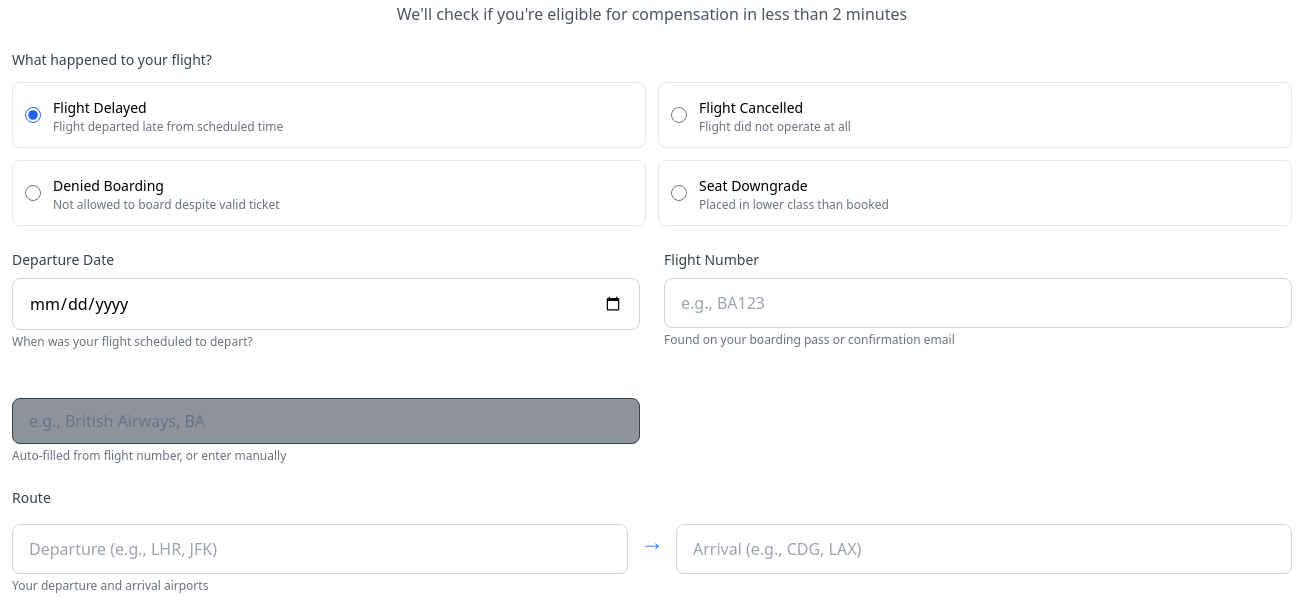
FlightLookupForm - Auto-Calculations › notice period auto-calculation › should auto-calculate notice period from dates
Click the radio button labelled "Flight Cancelled Flight did not operate at all" at point(679, 115), box left=671, top=107, right=687, bottom=123
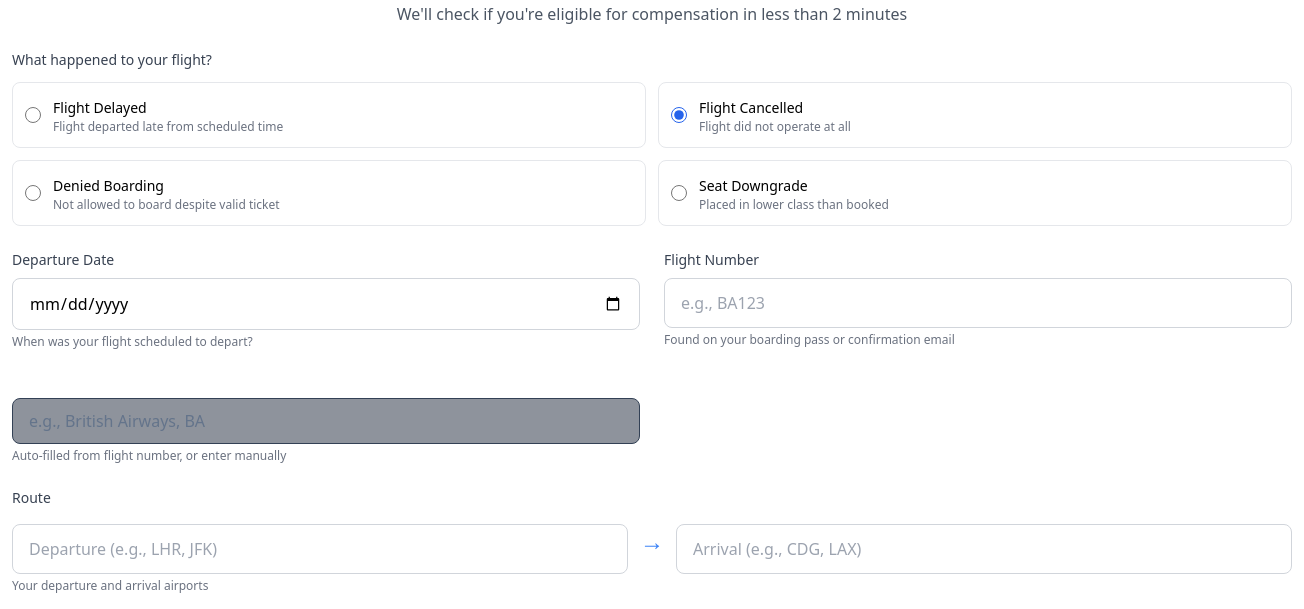
Note: Set departure date
Type "2024-01-15" into the date field labelled "Departure Date" at point(326, 304), box left=12, top=278, right=640, bottom=330
(page scrolled)
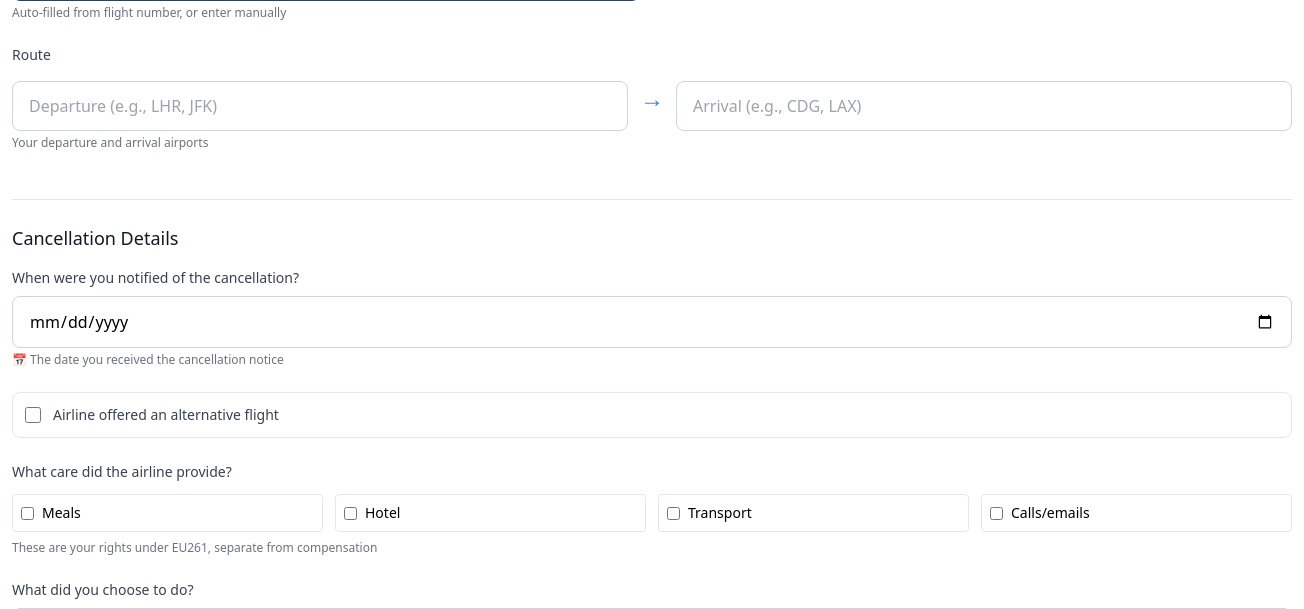
Note: Set notification date (5 days before)
Type "2024-01-10" into the date field labelled "When were you notified of the cancellation?" at point(652, 322), box left=12, top=296, right=1292, bottom=348
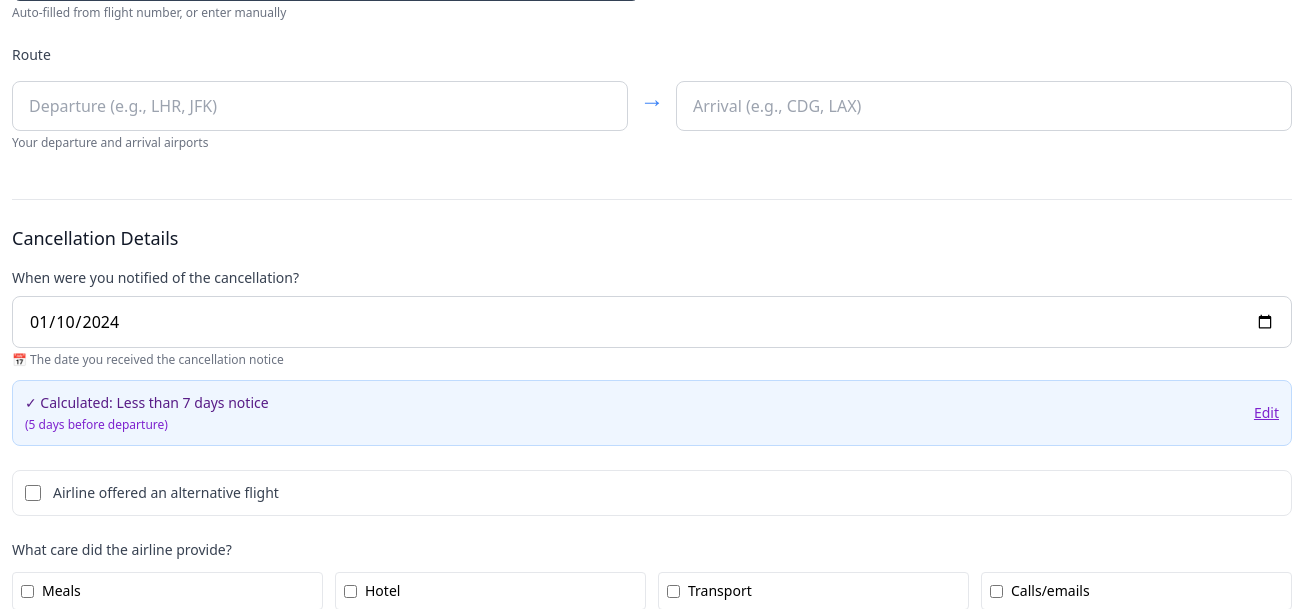
Now the text "✓ Calculated: Less than 7 days notice" is shown, box left=25, top=393, right=269, bottom=413
Now the text "(5 days before departure)" is shown, box left=25, top=416, right=168, bottom=433
